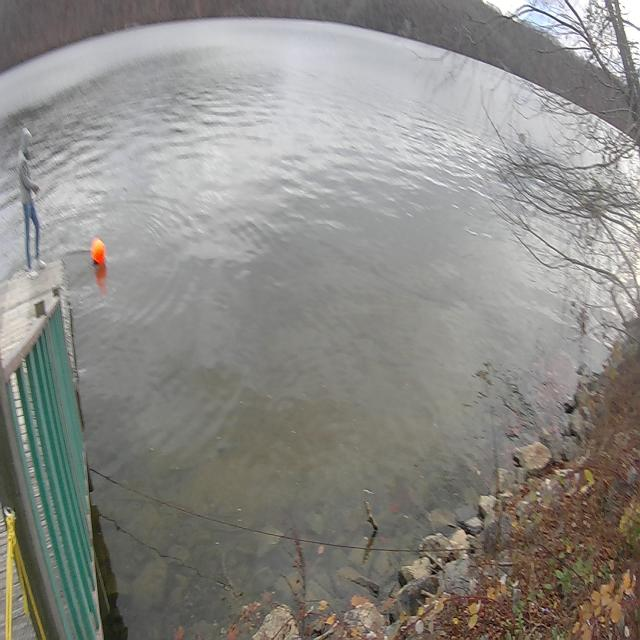Buoy: (89, 233, 109, 273)
